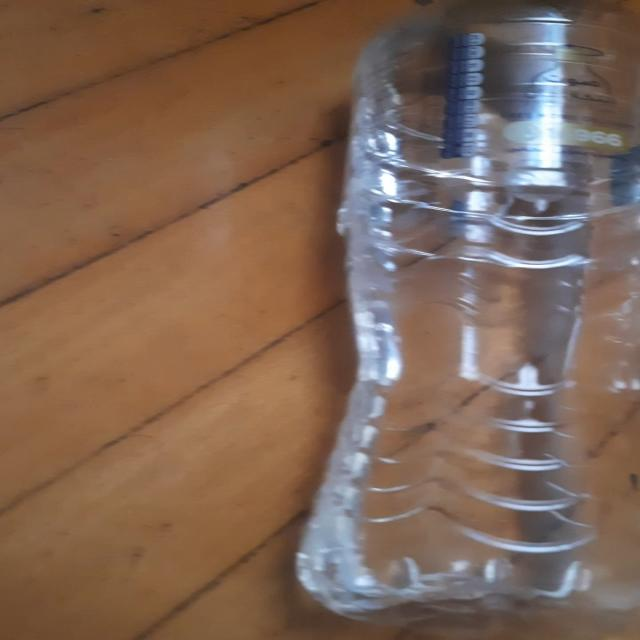Plastic: (292, 0, 640, 640)
